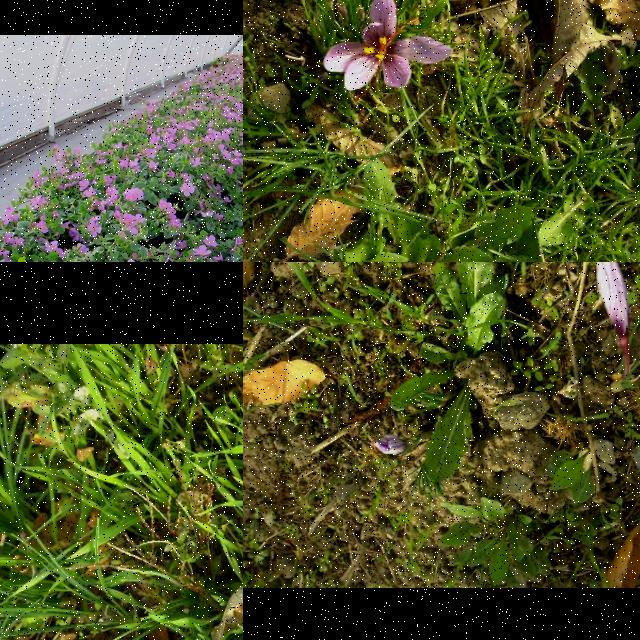flower: (322, 0, 453, 101), (591, 262, 631, 350), (375, 436, 407, 454)
